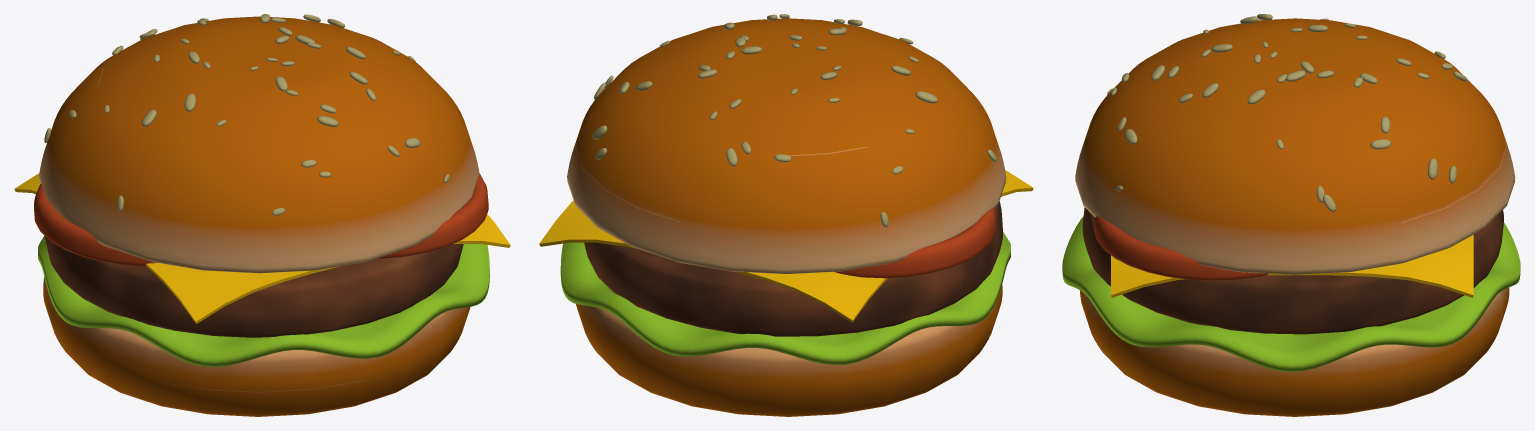
Rendered from burger.glb.
The picture shows the model from 3 angles, left to right: view 1: azimuth 30°, elevation 25°; view 2: azimuth 150°, elevation 25°; view 3: azimuth 270°, elevation 25°; orthographic projection.
Parts seen in each view (by area): view 1: bun-top, bun-bottom, meat, salad, cheese, tomato, seed; view 2: bun-top, bun-bottom, meat, salad, cheese, tomato, seed; view 3: bun-top, bun-bottom, meat, salad, cheese, seed, tomato.
Boxes of the visible parts, box(x1,y1,x2,y2) form: bun-top: box(39, 16, 479, 273); bun-bottom: box(43, 276, 470, 416); meat: box(44, 236, 463, 337); salad: box(38, 236, 489, 367); cheese: box(14, 173, 510, 323); tomato: box(34, 173, 488, 266); seed: box(44, 14, 449, 215); bun-top: box(567, 18, 1006, 274); bun-bottom: box(576, 285, 1002, 416); meat: box(584, 201, 1002, 336); salad: box(560, 232, 1010, 364); cheese: box(539, 170, 1033, 322); tomato: box(834, 208, 996, 278); seed: box(592, 14, 996, 227); bun-top: box(1075, 18, 1515, 274); bun-bottom: box(1080, 287, 1509, 416); meat: box(1082, 207, 1503, 334); salad: box(1062, 216, 1520, 372); cheese: box(1111, 234, 1473, 297); seed: box(1107, 14, 1467, 211); tomato: box(1093, 216, 1268, 280).
Bounding box in the file's own units: 0.983 × 0.6929 × 0.9684.
7 materials, 3 textured.
